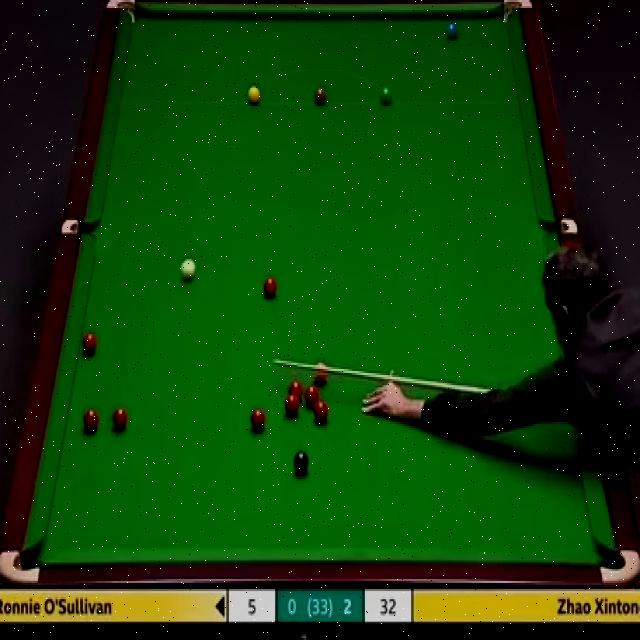black-ball: (294, 452, 308, 474)
blue-ball: (446, 21, 461, 39)
brown-ball: (314, 86, 328, 106)
green-ball: (378, 86, 394, 107)
pink-ball: (312, 360, 328, 385)
red-ball: (82, 406, 99, 432), (250, 407, 266, 434), (81, 330, 98, 355), (313, 398, 329, 423), (262, 276, 278, 300), (306, 382, 322, 404), (285, 394, 300, 416), (112, 407, 126, 430), (289, 380, 303, 402)
white-ball: (182, 258, 196, 281)
yellow-ball: (246, 85, 262, 106)
